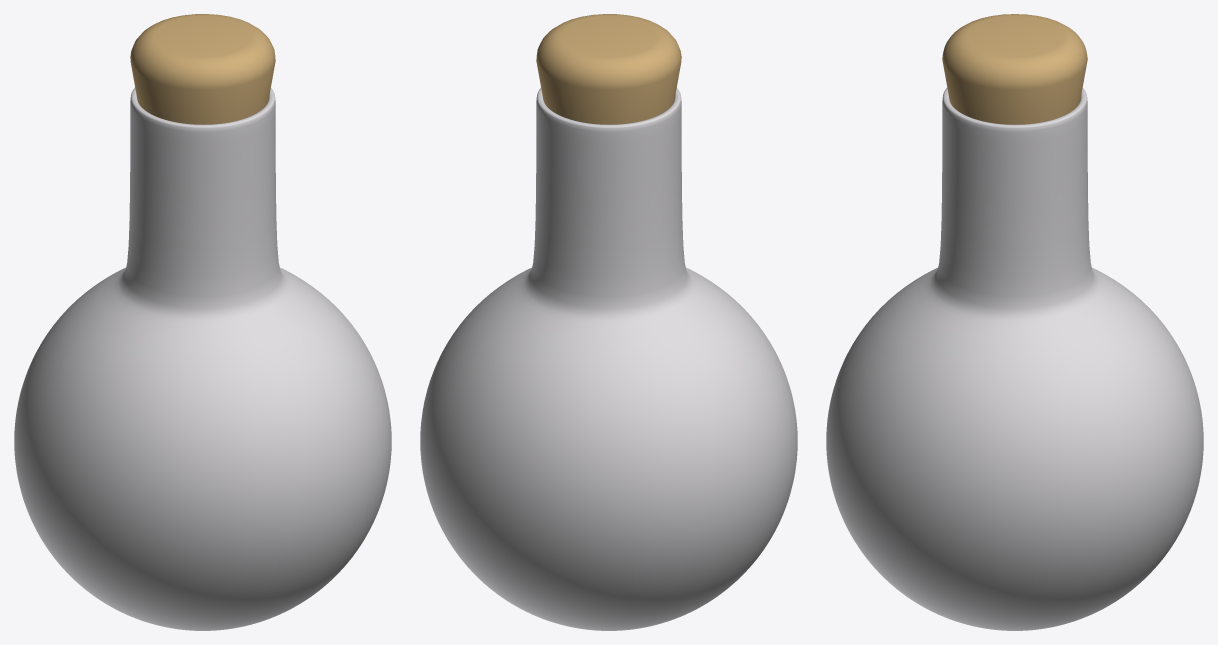
The model's file is potion.fbx.
3 views of the same model, side by side, from view 1: azimuth 30°, elevation 25°; view 2: azimuth 150°, elevation 25°; view 3: azimuth 270°, elevation 25° (orthographic).
Parts seen in each view (by area): view 1: Sphere, Cylinder; view 2: Sphere, Cylinder; view 3: Sphere, Cylinder.
Boxes of the visible parts, x1,y1,x2,y2 form: Sphere: (14,87,391,630); Cylinder: (130,14,275,124); Sphere: (420,87,797,630); Cylinder: (536,14,681,124); Sphere: (826,87,1203,630); Cylinder: (942,14,1087,124).
Bounding box in the file's own units: 197 × 197 × 333.
